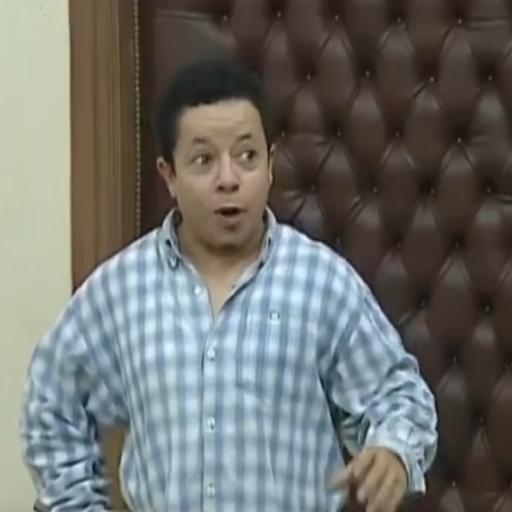fouchika: (156, 60, 273, 249)
